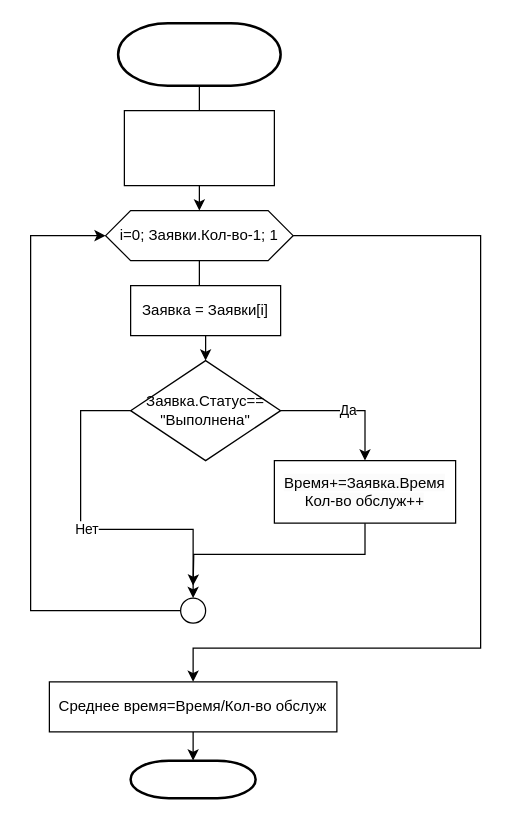
Image size: 513x820. Some labels were removed from this diagram. The centre of each missing label's shape, as x and y in pixels:
Время=0 Кол-во обслуж=0: (x=198, y=147)
Среднее время: (x=192, y=779)
Среднее время заявки (Заявки): (x=198, y=53)
